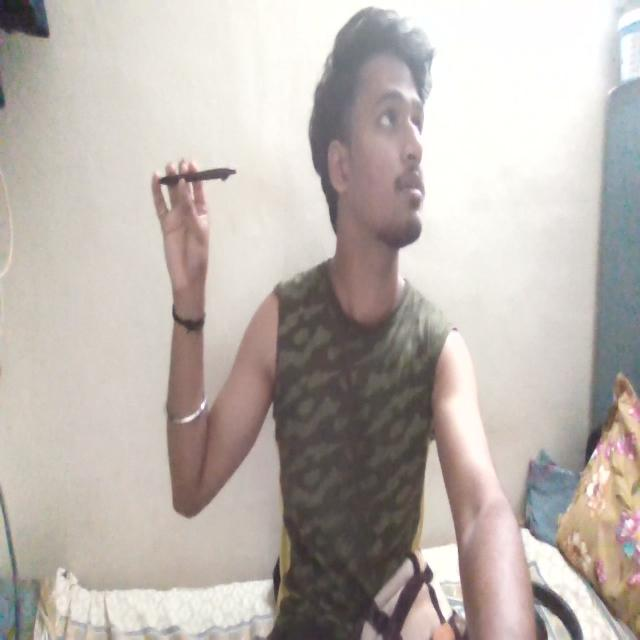pen: (140, 149, 246, 193)
